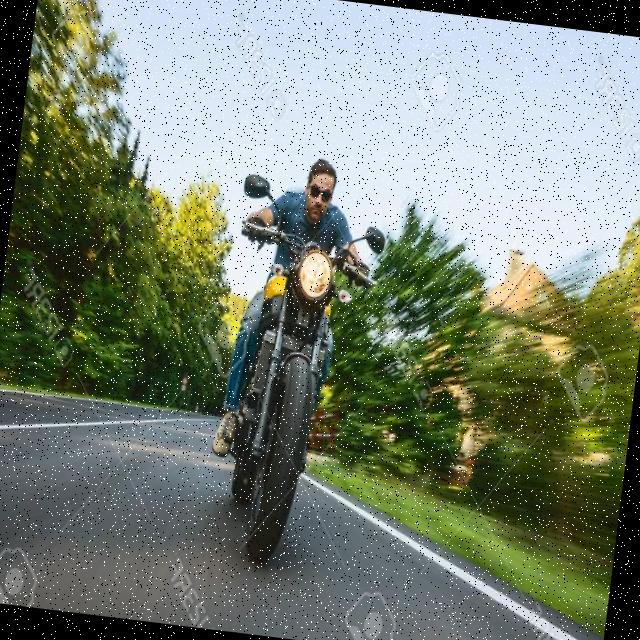No helmet: (295, 144, 354, 235)
